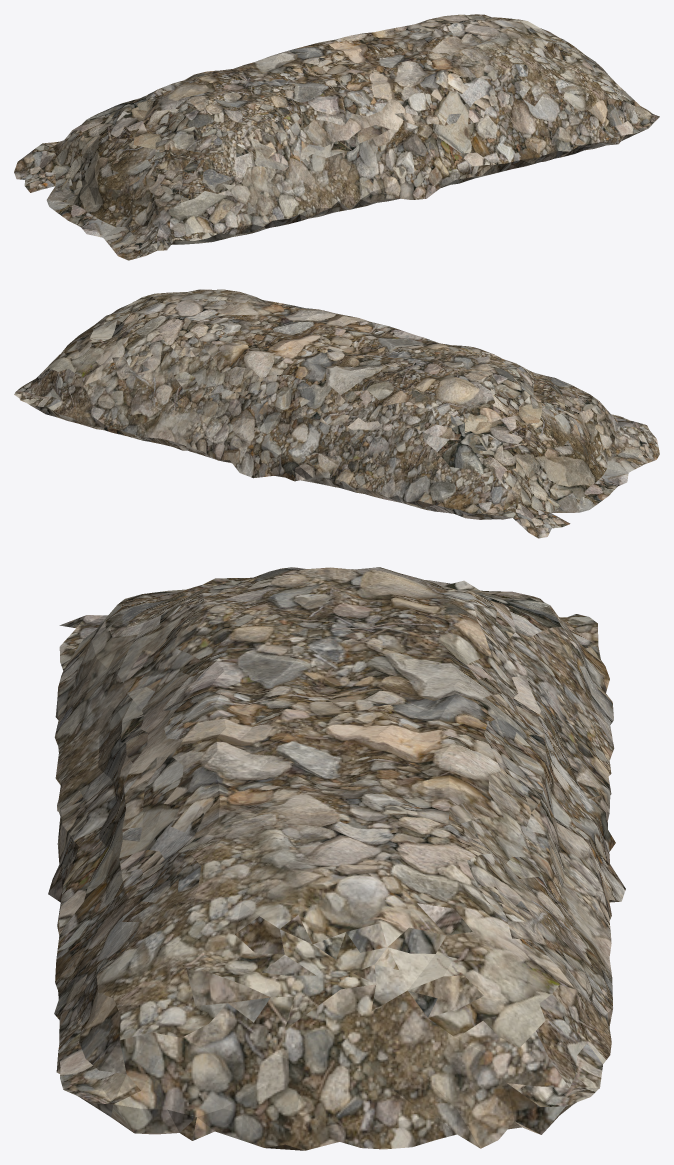
Rendered from grave1.fbx.
3 views of the same model, one above another, from view 1: azimuth 30°, elevation 25°; view 2: azimuth 150°, elevation 25°; view 3: azimuth 270°, elevation 25° (orthographic). The views are drawn at different scales.
Parts seen in each view (by area): view 1: Cube; view 2: Cube; view 3: Cube.
Boxes of the visible parts, x1=… form: Cube: x1=14, y1=14, x2=659, y2=260; Cube: x1=14, y1=289, x2=659, y2=538; Cube: x1=48, y1=567, x2=625, y2=1150.
Size of the model in its own units: 696 by 112 by 320.
